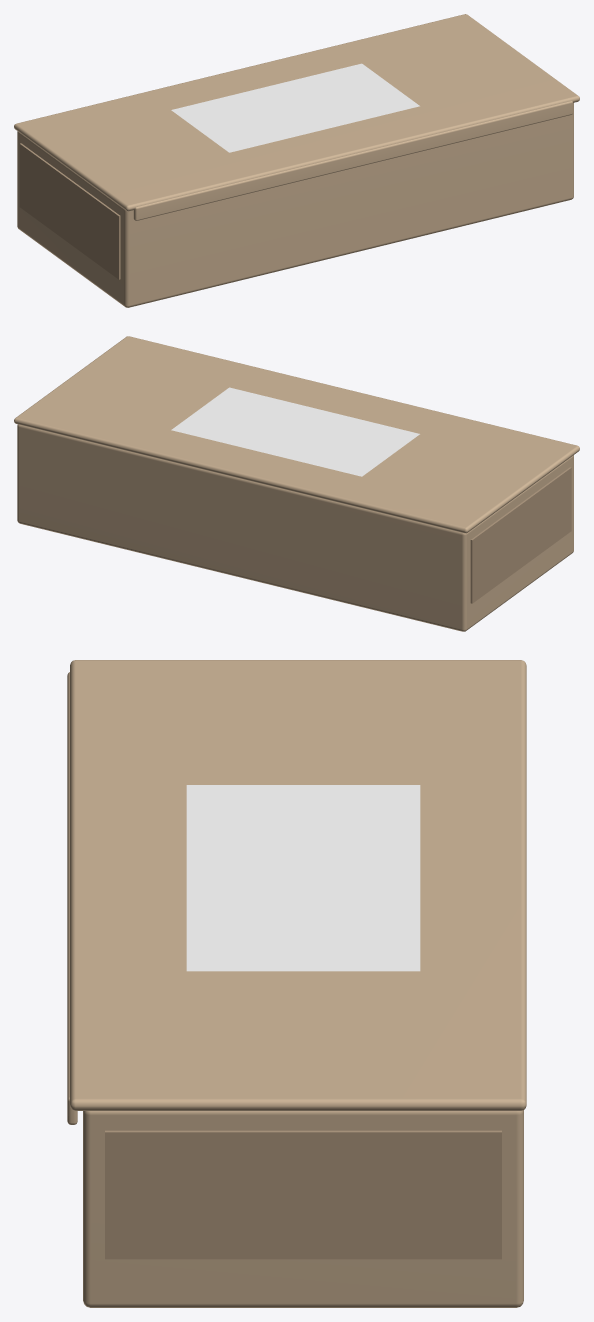
The model's file is kraft_box.glb.
The picture shows the model from 3 angles, top to bottom: view 1: azimuth 30°, elevation 25°; view 2: azimuth 150°, elevation 25°; view 3: azimuth 270°, elevation 25°; orthographic projection. The views are drawn at different scales.
Visible parts, largest first — view 1: kraft_box; view 2: kraft_box; view 3: kraft_box.
Boxes of the visible parts, box(x1,y1,x2,y2) form: kraft_box: box(14, 14, 579, 307); kraft_box: box(14, 336, 579, 631); kraft_box: box(67, 660, 526, 1307).
Size of the model in its own units: 0.404 by 0.0906 by 0.177.
